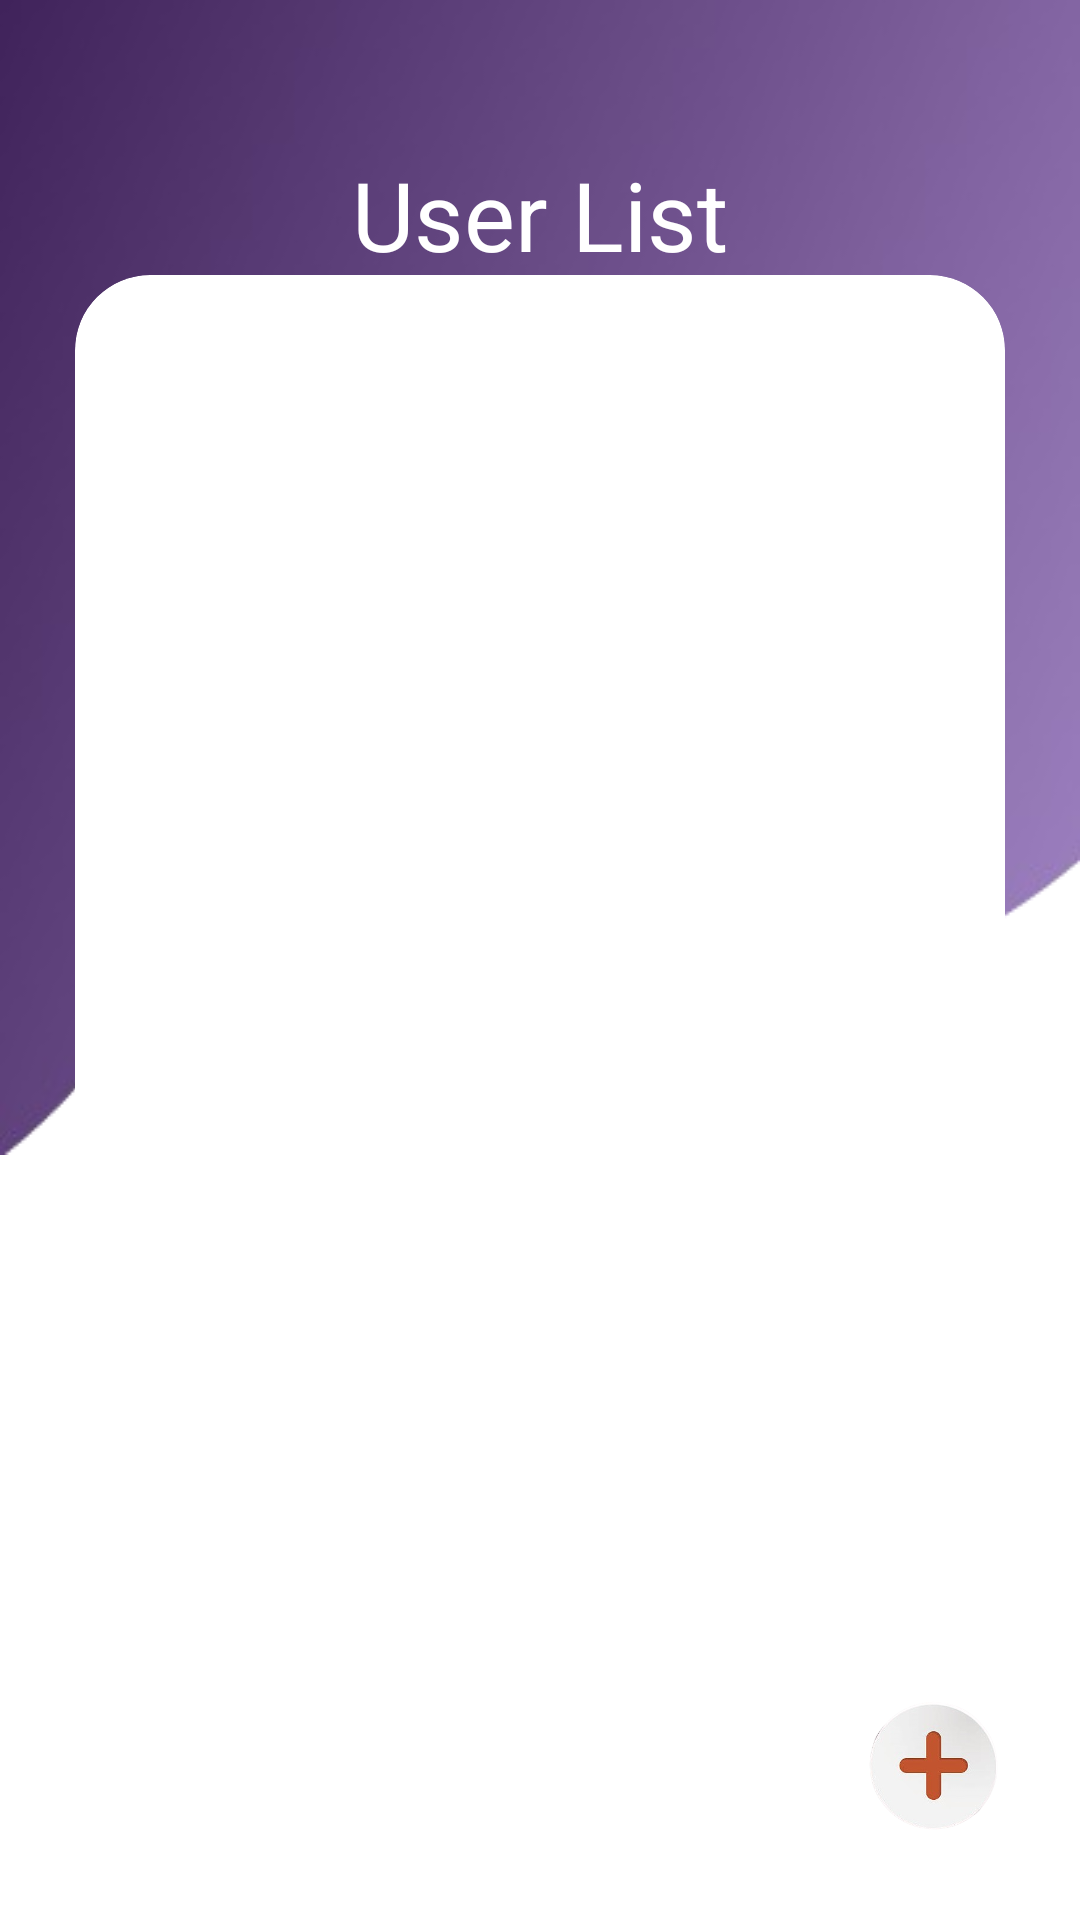

Screen size 1080 x 1920. Icon name, then its center in pixels as [x,y]:
add: [933,1766]
